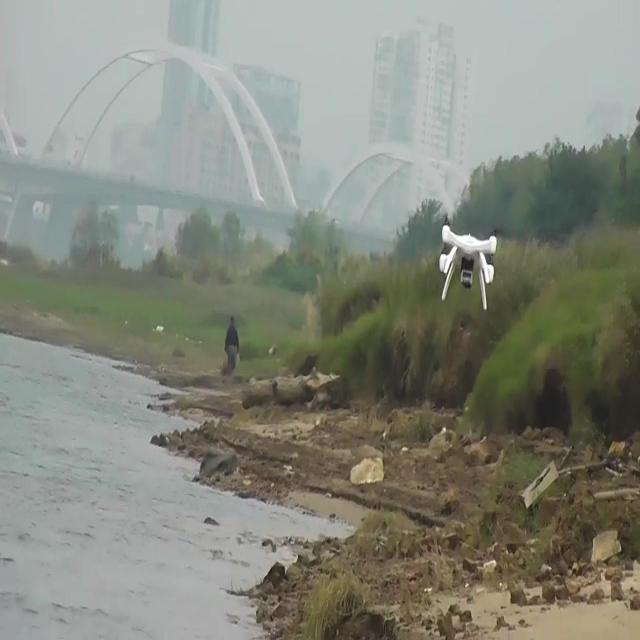drone: (438, 211, 500, 313)
